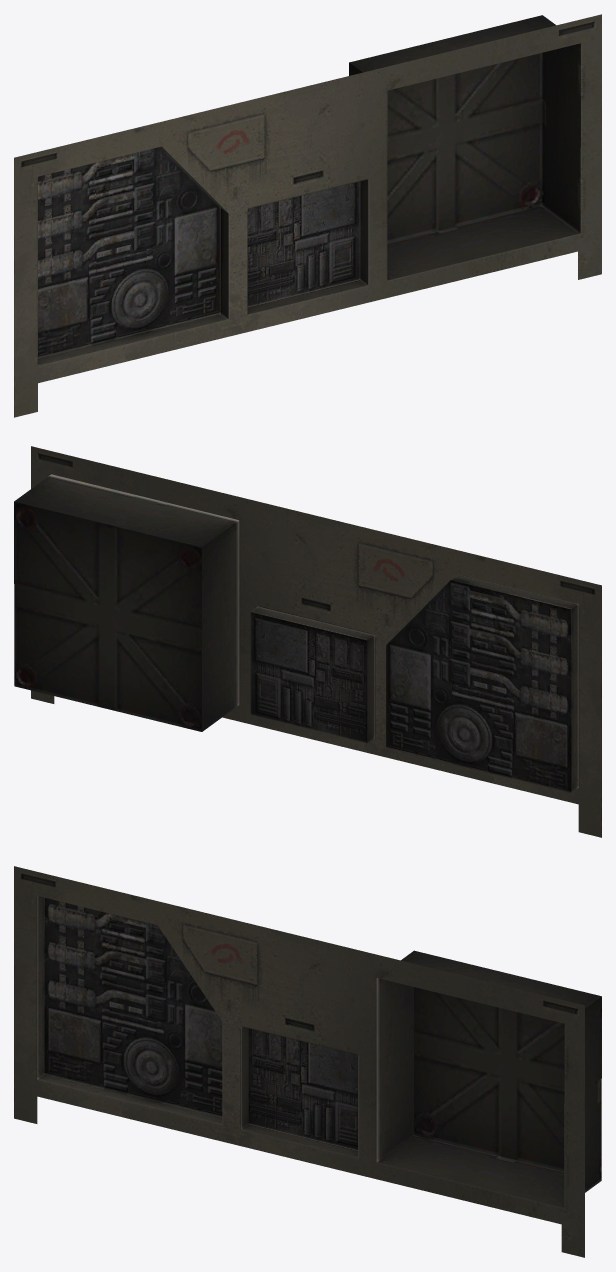
File: computer_table_flesher_door_face.DAE
3 views of the same model, one above another, from view 1: azimuth 30°, elevation 25°; view 2: azimuth 150°, elevation 25°; view 3: azimuth 330°, elevation 25° (orthographic). The views are drawn at different scales.
Visible parts, largest first — view 1: computer_table_flesher_face; view 2: computer_table_flesher_face; view 3: computer_table_flesher_face.
Part boxes in pixels (left/top/right/bottom): computer_table_flesher_face: left=14, top=14, right=601, bottom=417; computer_table_flesher_face: left=14, top=446, right=601, bottom=837; computer_table_flesher_face: left=14, top=866, right=601, bottom=1257.
Size of the model in its own units: 200 by 84.49 by 22.65.
